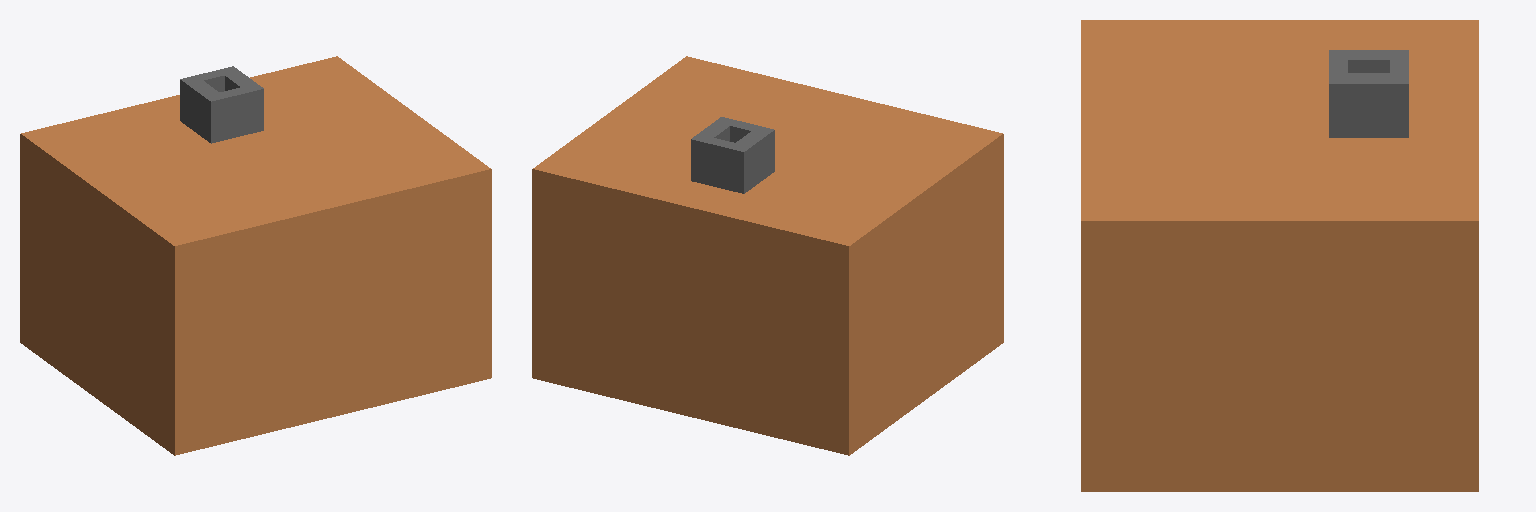
The robot description file, URDF, robot "peg_in_hole_scene_0047_tol06":
<?xml version="1.0"?>
<robot name="peg_in_hole_scene_0047_tol06">
  <material name="wood"><color rgba="0.82 0.56 0.35 1.0"/></material>
  <material name="hole_grey"><color rgba="0.4706 0.4706 0.4706 1.0"/></material>
  <link name="box">
    <visual>
      <origin xyz="0.000000 0.000000 0.000000" rpy="0 0 0"/>
      <geometry><box size="0.475000 0.400000 0.300000"/></geometry>
      <material name="wood"/>
    </visual>
    <collision>
      <origin xyz="0.000000 0.000000 0.000000" rpy="0 0 0"/>
      <geometry><box size="0.475000 0.400000 0.300000"/></geometry>
    </collision>
    <visual>
      <origin xyz="0.000944 0.089476 0.155000" rpy="0 0 0"/>
      <geometry><box size="0.080000 0.080000 0.010000"/></geometry>
      <material name="hole_grey"/>
    </visual>
    <collision>
      <origin xyz="0.000944 0.089476 0.155000" rpy="0 0 0"/>
      <geometry><box size="0.080000 0.080000 0.010000"/></geometry>
    </collision>
    <visual>
      <origin xyz="0.028949 0.089476 0.185000" rpy="0 0 0"/>
      <geometry><box size="0.023989 0.080000 0.050000"/></geometry>
      <material name="hole_grey"/>
    </visual>
    <collision>
      <origin xyz="0.028949 0.089476 0.185000" rpy="0 0 0"/>
      <geometry><box size="0.023989 0.080000 0.050000"/></geometry>
    </collision>
    <visual>
      <origin xyz="-0.027062 0.089476 0.185000" rpy="0 0 0"/>
      <geometry><box size="0.023989 0.080000 0.050000"/></geometry>
      <material name="hole_grey"/>
    </visual>
    <collision>
      <origin xyz="-0.027062 0.089476 0.185000" rpy="0 0 0"/>
      <geometry><box size="0.023989 0.080000 0.050000"/></geometry>
    </collision>
    <visual>
      <origin xyz="0.000944 0.119981 0.185000" rpy="0 0 0"/>
      <geometry><box size="0.032023 0.018989 0.050000"/></geometry>
      <material name="hole_grey"/>
    </visual>
    <collision>
      <origin xyz="0.000944 0.119981 0.185000" rpy="0 0 0"/>
      <geometry><box size="0.032023 0.018989 0.050000"/></geometry>
    </collision>
    <visual>
      <origin xyz="0.000944 0.058970 0.185000" rpy="0 0 0"/>
      <geometry><box size="0.032023 0.018989 0.050000"/></geometry>
      <material name="hole_grey"/>
    </visual>
    <collision>
      <origin xyz="0.000944 0.058970 0.185000" rpy="0 0 0"/>
      <geometry><box size="0.032023 0.018989 0.050000"/></geometry>
    </collision>
    <inertial>
      <mass value="500"/>
      <friction value="1.0"/>
      <inertia ixx="1000.0" ixy="0.0" ixz="0.0" iyy="1000.0" iyz="0.0" izz="1000.0"/>
    </inertial>
  </link>
</robot>

--- What the picture shows (computed from the rendered views, not written in the file) ---
3 views of the same robot in one strip: view 1: azimuth 30°, elevation 25°; view 2: azimuth 150°, elevation 25°; view 3: azimuth 270°, elevation 25° (orthographic).
Robot: peg_in_hole_scene_0047_tol06 — 1 links, 0 joints (none); root link box; default pose: all joints at 0.
Links seen in each view (by area): view 1: box; view 2: box; view 3: box.
Link boxes in pixels (box(x1,y1,x2,y2)): box: box(20, 56, 491, 455); box: box(532, 56, 1003, 455); box: box(1081, 20, 1478, 491).
Size in the robot's own frame: 0.475 by 0.4 by 0.36 metres.
Geometry: primitives only (box / cylinder / sphere), no mesh files.
